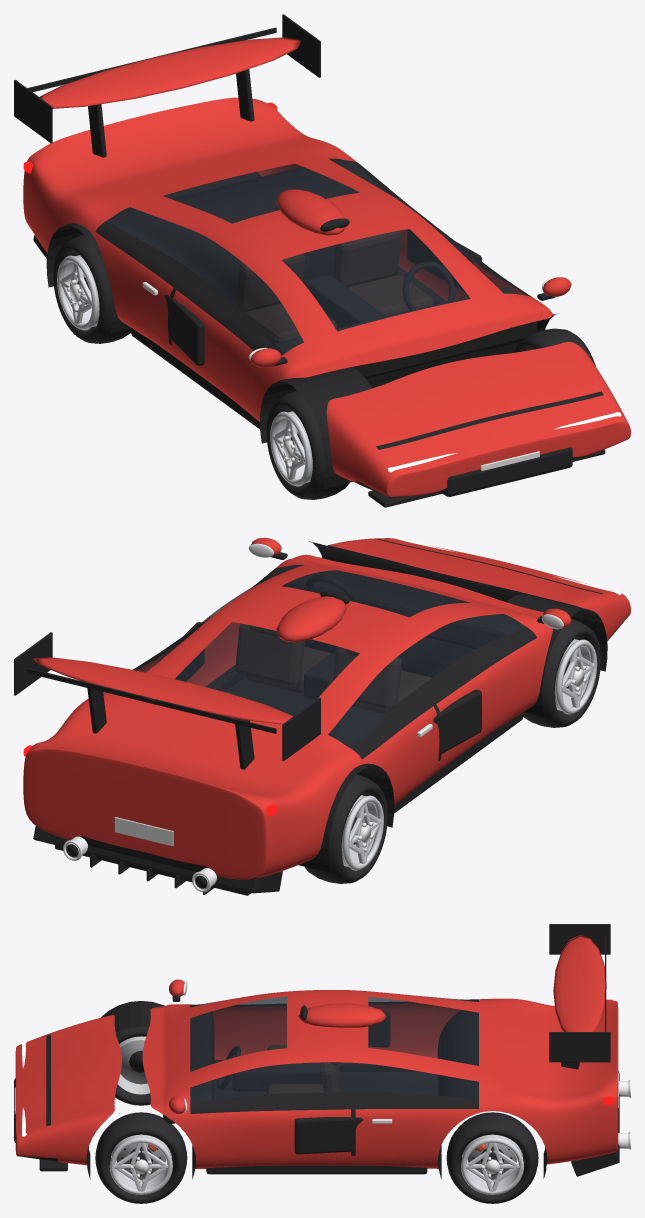
File: phantom.glb
3 renders of one model, top to bottom at view 1: azimuth 30°, elevation 25°; view 2: azimuth 150°, elevation 25°; view 3: azimuth 270°, elevation 25°, orthographic. The views are drawn at different scales.
Visible parts, largest first — view 1: body, wheel_fr, wheel_rr, wheel_fl; view 2: body, wheel_rr, wheel_fr; view 3: body, wheel_rl, wheel_fl, wheel_fr.
Boxes of the visible parts, x1=… form: body: x1=14, y1=14, x2=630, y2=507; wheel_fr: x1=266, y1=390, x2=349, y2=499; wheel_rr: x1=53, y1=234, x2=130, y2=343; wheel_fl: x1=514, y1=328, x2=595, y2=366; body: x1=14, y1=536, x2=630, y2=895; wheel_rr: x1=305, y1=774, x2=387, y2=883; wheel_fr: x1=523, y1=618, x2=600, y2=727; body: x1=14, y1=924, x2=630, y2=1179; wheel_rl: x1=446, y1=1112, x2=538, y2=1203; wheel_fl: x1=95, y1=1112, x2=187, y2=1203; wheel_fr: x1=115, y1=1026, x2=150, y2=1105.
Size of the model in its own units: 2.37 by 1.49 by 4.83.
